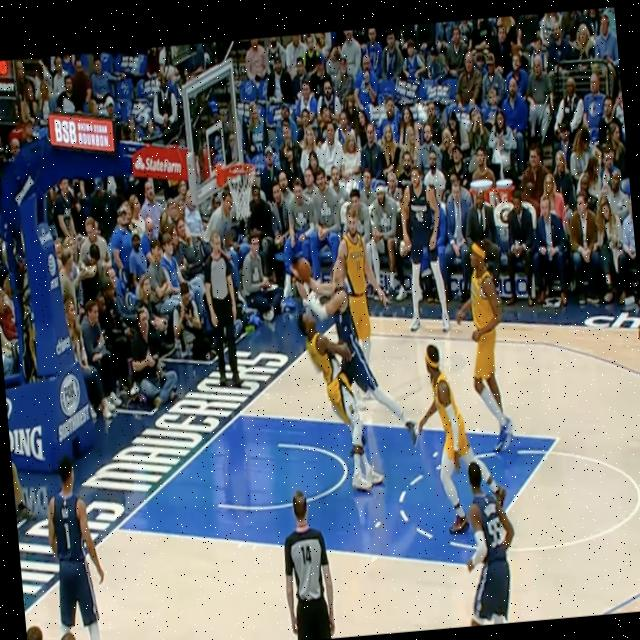foul: (274, 237, 418, 503)
no foul: (372, 240, 514, 523)
